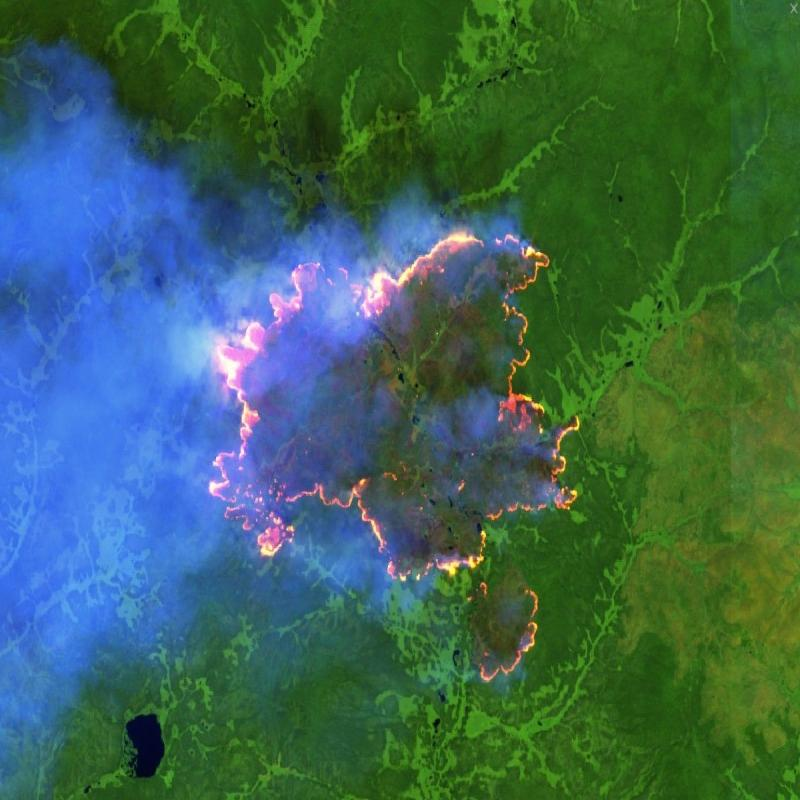fire: (211, 222, 583, 695)
